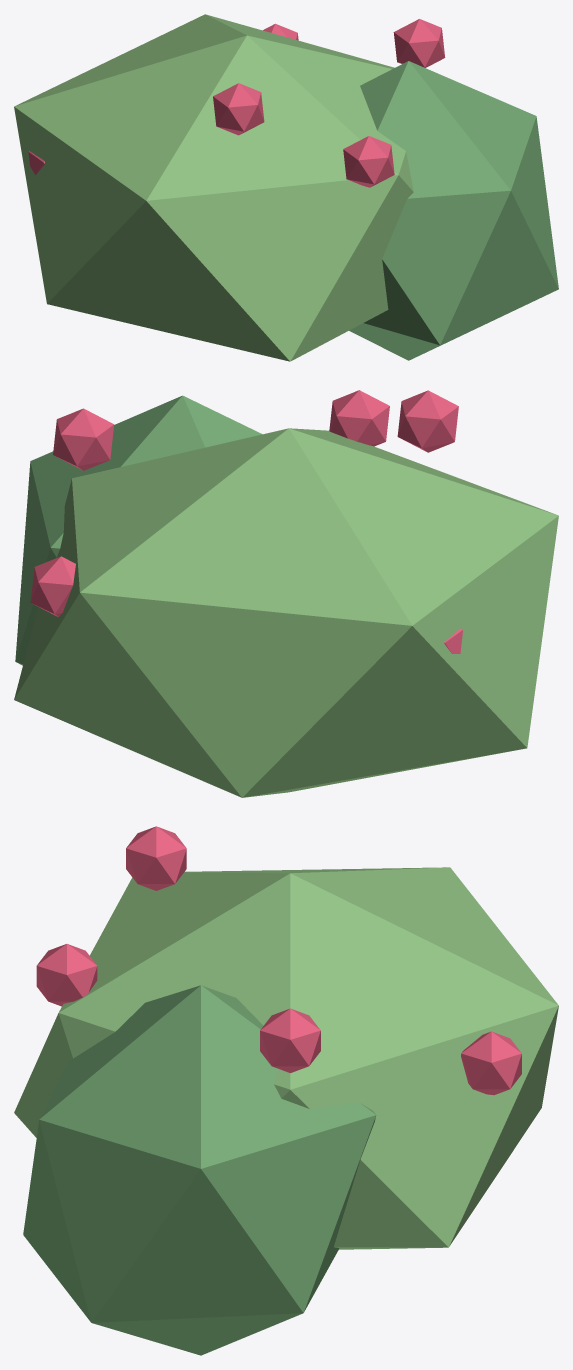
The model's file is berry_bush.glb.
3 renders of one model, top to bottom at view 1: azimuth 30°, elevation 25°; view 2: azimuth 150°, elevation 25°; view 3: azimuth 270°, elevation 25°, orthographic. The views are drawn at different scales.
Parts seen in each view (by area): view 1: berry_bush; view 2: berry_bush; view 3: berry_bush.
Boxes of the visible parts, box(x1,y1,x2,y2) form: berry_bush: box(14, 14, 558, 361); berry_bush: box(14, 390, 558, 797); berry_bush: box(14, 826, 558, 1355).
Bounding box in the file's own units: 1.45 × 1.03 × 1.22.
